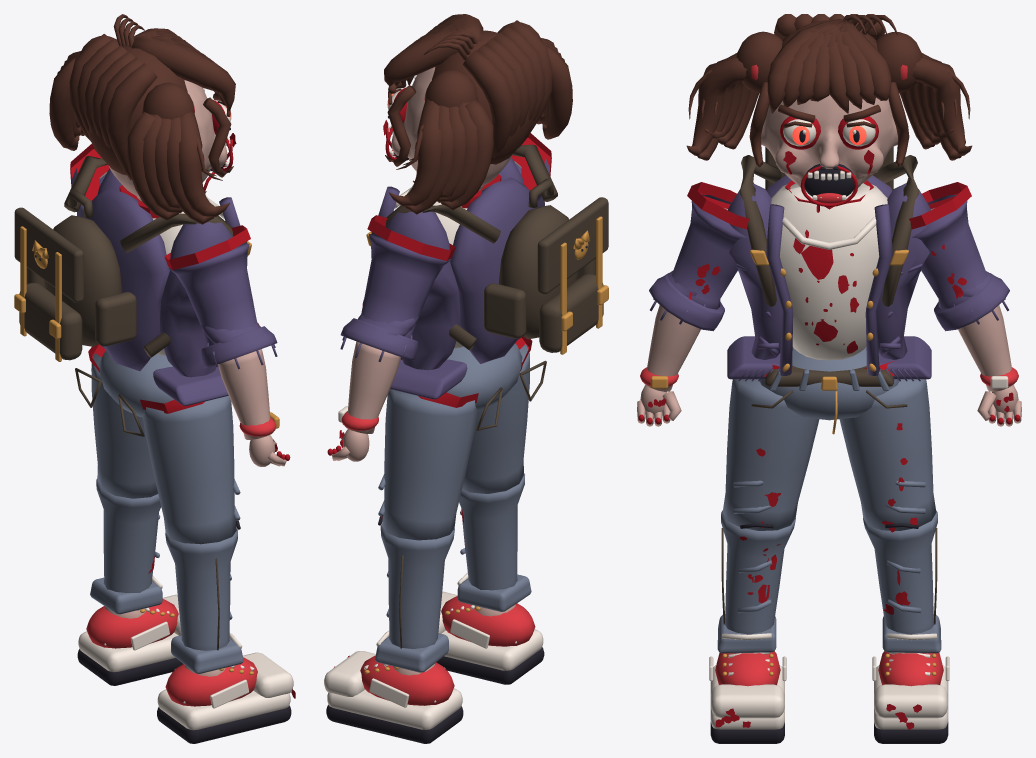
Rendered from inf.college-student.glb.
3 renders of one model, left to right at view 1: azimuth 30°, elevation 25°; view 2: azimuth 150°, elevation 25°; view 3: azimuth 270°, elevation 25°, orthographic. The views are drawn at different scales.
Visible parts, largest first — view 1: head, torso, backpackSocket, legR, footR, shinR, armR, footL, shinL, legL, foreArmR, hip (+3 smaller); view 2: head, torso, backpackSocket, legL, footL, shinL, armL, footR, shinR, legR, foreArmL, hip (+3 smaller); view 3: head, torso, legL, legR, shinR, shinL, footL, footR, armR, armL, hip, foreArmL (+5 smaller).
Part boxes in pixels (x1=…): head: x1=49, y1=14, x2=236, y2=224; torso: x1=64, y1=156, x2=251, y2=405; backpackSocket: x1=14, y1=189, x2=136, y2=361; legR: x1=142, y1=395, x2=240, y2=544; footR: x1=157, y1=652, x2=295, y2=743; shinR: x1=165, y1=529, x2=243, y2=673; armR: x1=168, y1=243, x2=277, y2=369; footL: x1=77, y1=594, x2=182, y2=685; shinL: x1=90, y1=478, x2=162, y2=614; legL: x1=91, y1=353, x2=158, y2=498; foreArmR: x1=218, y1=349, x2=279, y2=439; hip: x1=75, y1=351, x2=173, y2=436; head: x1=383, y1=14, x2=572, y2=214; torso: x1=366, y1=144, x2=557, y2=399; backpackSocket: x1=484, y1=178, x2=608, y2=354; legL: x1=378, y1=389, x2=477, y2=540; footL: x1=324, y1=651, x2=463, y2=743; shinL: x1=375, y1=525, x2=454, y2=672; armL: x1=340, y1=234, x2=451, y2=361; footR: x1=436, y1=591, x2=544, y2=684; shinR: x1=457, y1=473, x2=531, y2=611; legR: x1=462, y1=344, x2=529, y2=493; foreArmL: x1=338, y1=341, x2=400, y2=433; hip: x1=446, y1=343, x2=546, y2=430; head: x1=686, y1=14, x2=972, y2=212; torso: x1=727, y1=155, x2=931, y2=381; legL: x1=839, y1=379, x2=936, y2=532; legR: x1=722, y1=379, x2=819, y2=530; shinR: x1=717, y1=510, x2=795, y2=653; shinL: x1=863, y1=510, x2=941, y2=653; footL: x1=872, y1=651, x2=949, y2=743; footR: x1=709, y1=651, x2=786, y2=743; armR: x1=649, y1=194, x2=747, y2=331; armL: x1=912, y1=194, x2=1009, y2=331; hip: x1=751, y1=347, x2=907, y2=434; foreArmL: x1=958, y1=305, x2=1018, y2=391.
Bounding box in the file's own units: 0.5461 × 1.69 × 0.8615.
